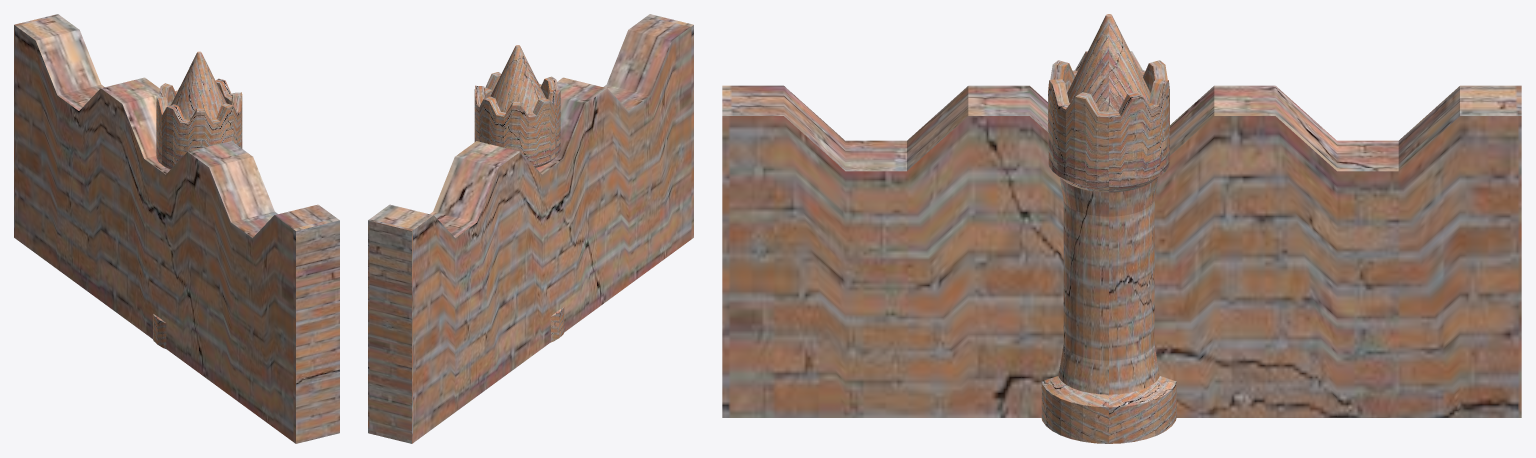
File: Castle.fbx
3 views of the same model, side by side, from view 1: azimuth 30°, elevation 25°; view 2: azimuth 150°, elevation 25°; view 3: azimuth 270°, elevation 25° (orthographic). The views are drawn at different scales.
Visible parts, largest first — view 1: Cube, Cylinder; view 2: Cube, Cylinder; view 3: Cube, Cylinder.
Boxes of the visible parts, x1=… form: Cube: x1=14, y1=14, x2=339, y2=443; Cylinder: x1=153, y1=51, x2=242, y2=348; Cube: x1=368, y1=14, x2=693, y2=443; Cylinder: x1=474, y1=45, x2=564, y2=342; Cube: x1=722, y1=85, x2=1521, y2=417; Cylinder: x1=1041, y1=14, x2=1176, y2=443.
Size of the model in its own units: 378 by 1228 by 2218.
